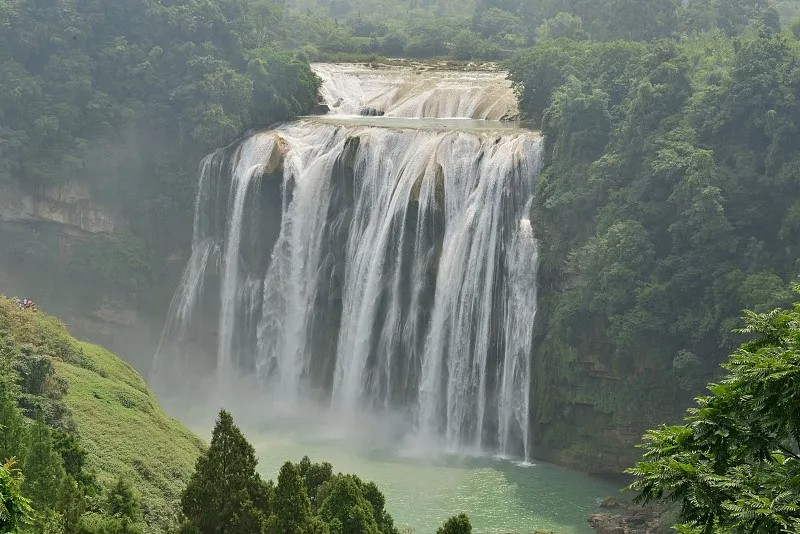Huangguoshu: (168, 60, 543, 461)
